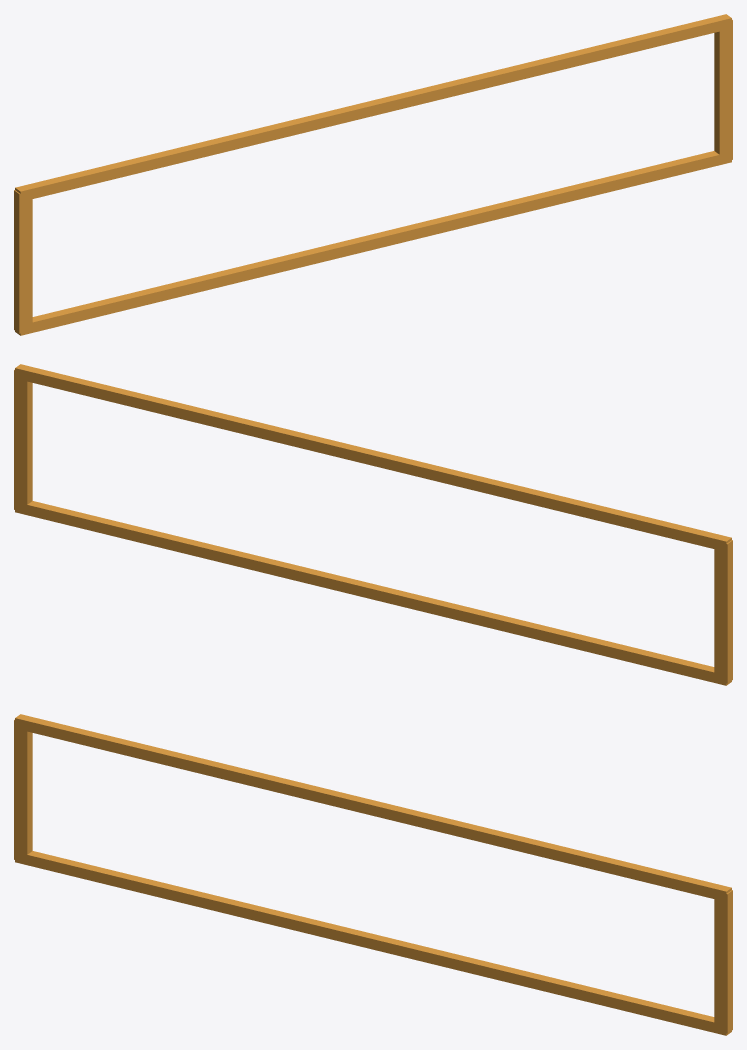
The model's file is sign_trim.glb.
The picture shows the model from 3 angles, top to bottom: view 1: azimuth 30°, elevation 25°; view 2: azimuth 150°, elevation 25°; view 3: azimuth 330°, elevation 25°; orthographic projection.
Visible parts, largest first — view 1: sign_trim; view 2: sign_trim; view 3: sign_trim.
Part boxes in pixels (<box>): sign_trim: <box>14,14,732,335</box>; sign_trim: <box>14,364,732,685</box>; sign_trim: <box>14,714,732,1035</box>.
Size of the model in its own units: 1.28 by 0.248 by 0.017.
